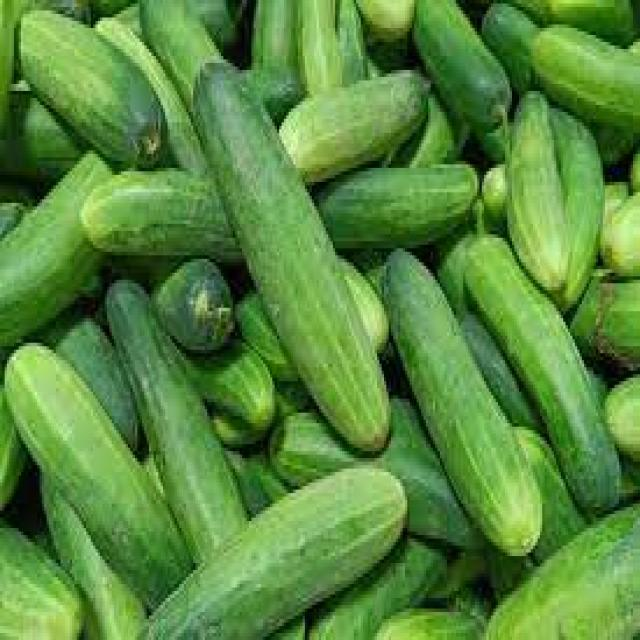Pickle: (194, 64, 390, 450), (5, 344, 193, 608), (384, 252, 543, 555), (151, 466, 405, 639), (466, 237, 620, 512), (105, 282, 246, 563), (21, 9, 166, 168), (0, 152, 111, 347), (486, 503, 640, 639), (42, 473, 147, 638), (280, 70, 427, 183), (80, 171, 243, 262), (320, 163, 477, 249), (414, 0, 511, 129), (507, 92, 569, 292), (533, 24, 640, 132), (0, 527, 84, 639), (374, 609, 483, 640)
